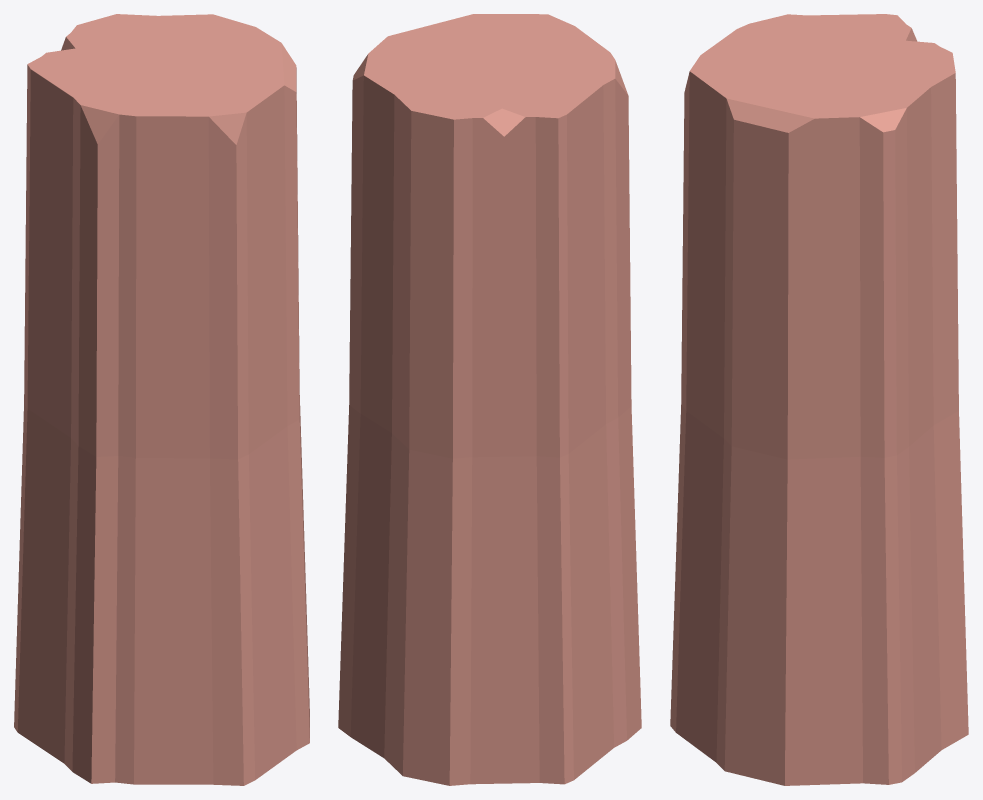
File: SuperGrid_Hexagon_018_Vlad.fbx
3 views of the same model, side by side, from view 1: azimuth 30°, elevation 25°; view 2: azimuth 150°, elevation 25°; view 3: azimuth 270°, elevation 25° (orthographic).
Visible parts, largest first — view 1: SuperGrid_Hexagon.018; view 2: SuperGrid_Hexagon.018; view 3: SuperGrid_Hexagon.018.
Part boxes in pixels (x1=…): SuperGrid_Hexagon.018: x1=14, y1=14, x2=309, y2=785; SuperGrid_Hexagon.018: x1=338, y1=14, x2=641, y2=785; SuperGrid_Hexagon.018: x1=670, y1=14, x2=968, y2=785.
Bounding box in the file's own units: 18828 × 50000 × 20466.
